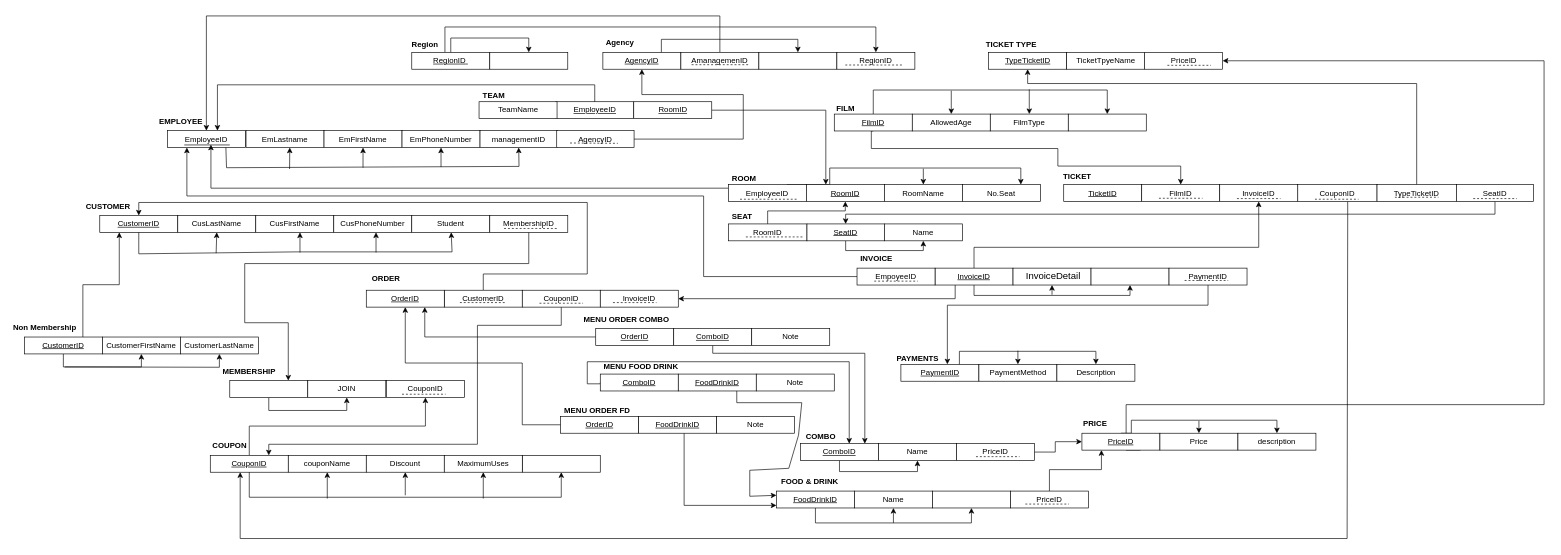
Image size: 1561x555. Some labels were removed from this diagram. The centre of each missing label's shape, as x and y in pixels:
"Address" belongs at [797,60].
"Code" belongs at [561,463].
"FilmName" belongs at [1107,122].
"InvoiceDay" belongs at [1129,276].
"JMembershipID" belongs at [268,388].
"RegionName" belongs at [528,60].
"Size" belongs at [971,499].
